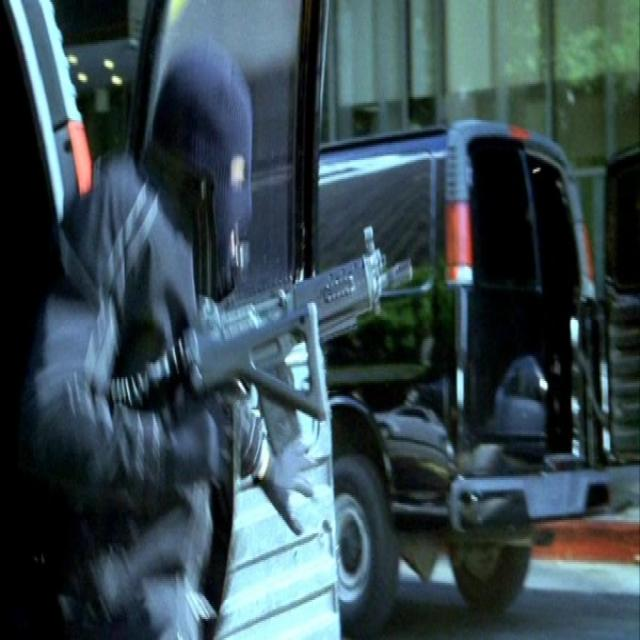rifle: (148, 223, 420, 429)
